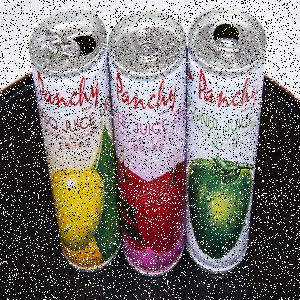Can: (30, 9, 122, 277), (189, 8, 269, 277), (109, 10, 188, 280)
